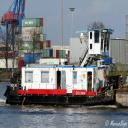tugboat: (4, 29, 119, 111)
